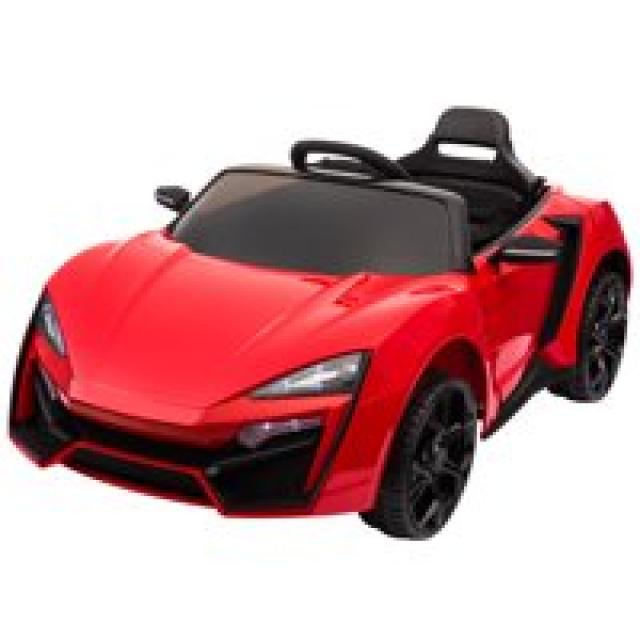Car: (7, 102, 630, 541)
